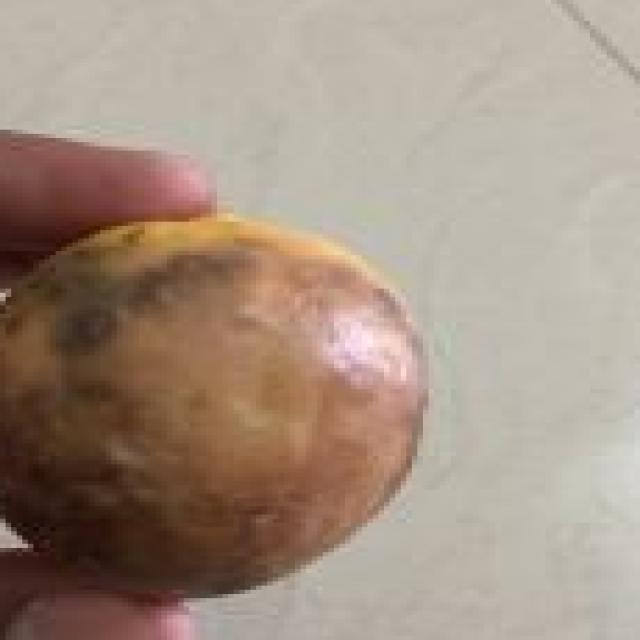Bad_Lime-0-1-day: (0, 213, 429, 607)
